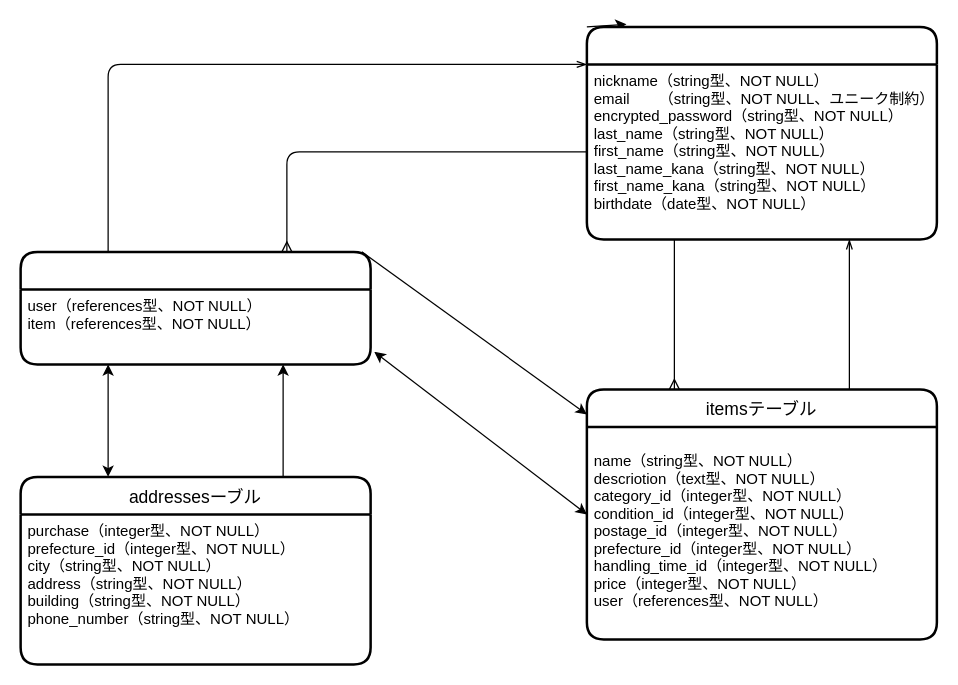
The diagram is 958 pixels wide and 685 high, and some of its shapes have lost their labels. The shapes that lost their labels are listed below. From the top down, each one's box as (x1, y1, x2, y2) in pixels, then its label:
(585, 25, 938, 240): usersテーブル
(19, 250, 371, 365): purchasesテーブル
